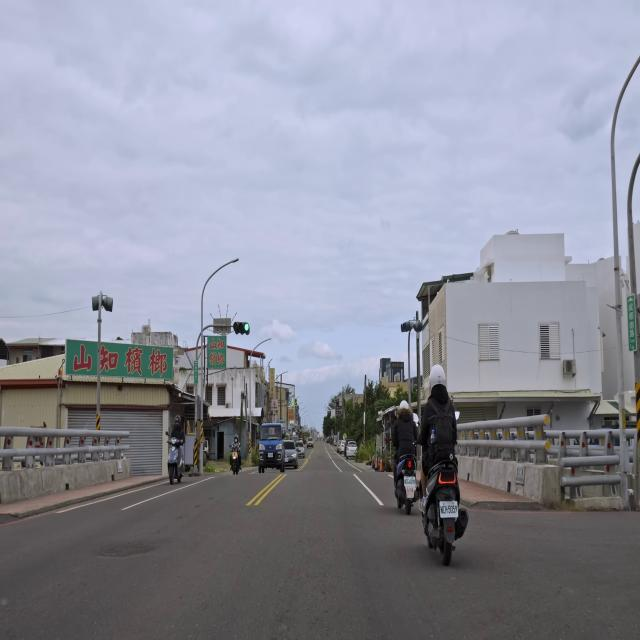green light: (232, 320, 250, 336)
